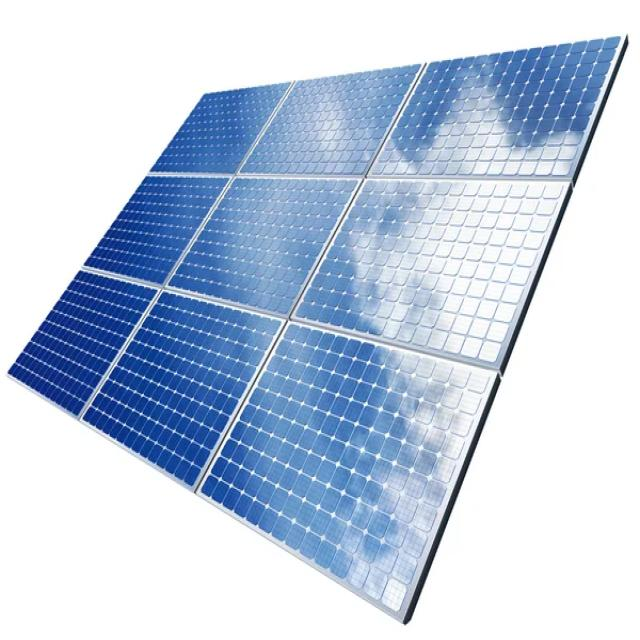clean-solar-panel: (6, 40, 626, 633)
